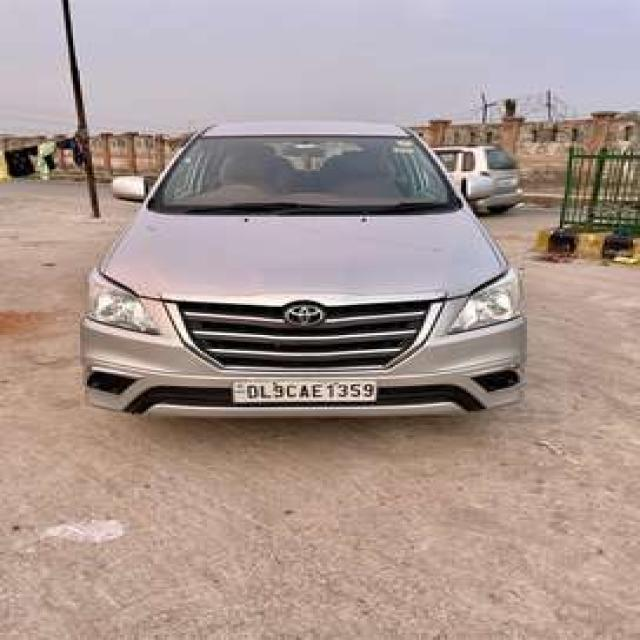plate: (228, 377, 376, 402)
